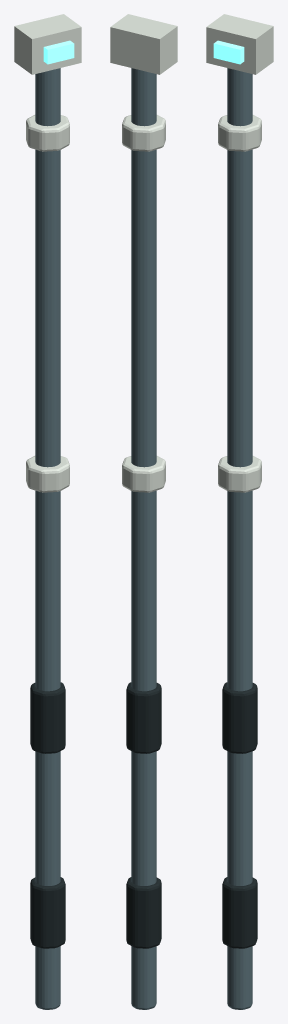
File: pole_tactical.glb
3 renders of one model, left to right at view 1: azimuth 30°, elevation 25°; view 2: azimuth 150°, elevation 25°; view 3: azimuth 330°, elevation 25°, orthographic.
Parts seen in each view (by area): view 1: Pole shaft.007, Tactical cap.002, Grip collar.014, Grip collar.015, Hoist latch.015, Hoist latch.014, Locator.002; view 2: Pole shaft.007, Tactical cap.002, Grip collar.014, Grip collar.015, Hoist latch.015, Hoist latch.014; view 3: Pole shaft.007, Tactical cap.002, Grip collar.014, Grip collar.015, Hoist latch.015, Hoist latch.014, Locator.002.
Part boxes in pixels (x1=…): Pole shaft.007: x1=35, y1=68, x2=60, y2=1009; Tactical cap.002: x1=14, y1=14, x2=81, y2=74; Grip collar.014: x1=30, y1=877, x2=65, y2=948; Grip collar.015: x1=30, y1=682, x2=65, y2=753; Hoist latch.015: x1=26, y1=115, x2=69, y2=151; Hoist latch.014: x1=26, y1=456, x2=69, y2=492; Locator.002: x1=43, y1=40, x2=74, y2=64; Pole shaft.007: x1=131, y1=68, x2=156, y2=1009; Tactical cap.002: x1=110, y1=14, x2=177, y2=74; Grip collar.014: x1=126, y1=877, x2=161, y2=948; Grip collar.015: x1=126, y1=682, x2=161, y2=753; Hoist latch.015: x1=122, y1=115, x2=165, y2=151; Hoist latch.014: x1=122, y1=456, x2=165, y2=492; Pole shaft.007: x1=227, y1=68, x2=252, y2=1009; Tactical cap.002: x1=206, y1=14, x2=273, y2=74; Grip collar.014: x1=222, y1=877, x2=257, y2=948; Grip collar.015: x1=222, y1=682, x2=257, y2=753; Hoist latch.015: x1=218, y1=115, x2=261, y2=151; Hoist latch.014: x1=218, y1=456, x2=261, y2=492; Locator.002: x1=213, y1=40, x2=244, y2=64.
Size of the model in its own units: 0.16 by 3.01 by 0.1361.
